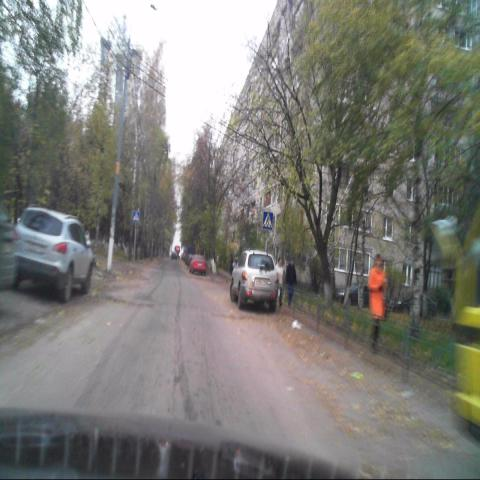5_19_1: (262, 212, 272, 229), (132, 210, 139, 223)
